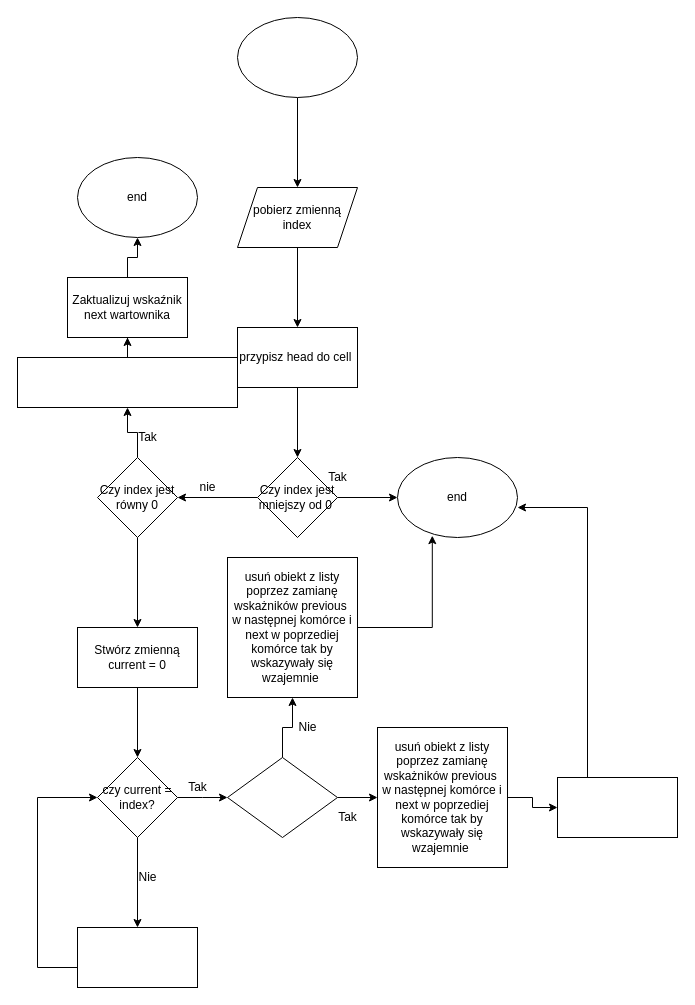
The diagram is 695 pixels wide and 1005 high, and some of its shapes have lost their labels. The centre of each missing label's shape, as x and y in pixels:
Czy cell.next jest wskazywany przez wartownika jako tail?: pixel 282 797
przypisz paramtetr next cell do cell (cell = cell.next), zwiększ current o 1: pixel 137 957
start: pixel 297 57
Zaktualizować wskaźnik previous wartownika: pixel 617 807
zamień wartość head na obiekt przechowywany w next (head = head.next): pixel 127 382
